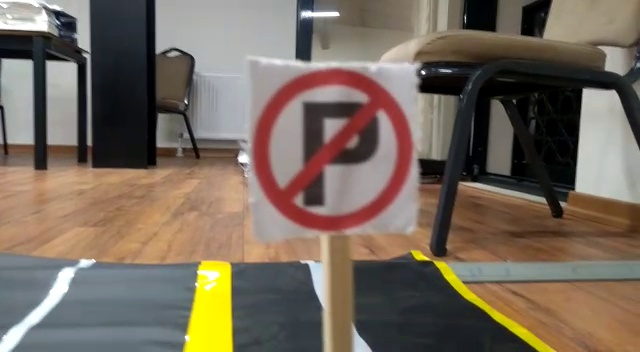park_yapilmaz: (245, 56, 415, 233)
